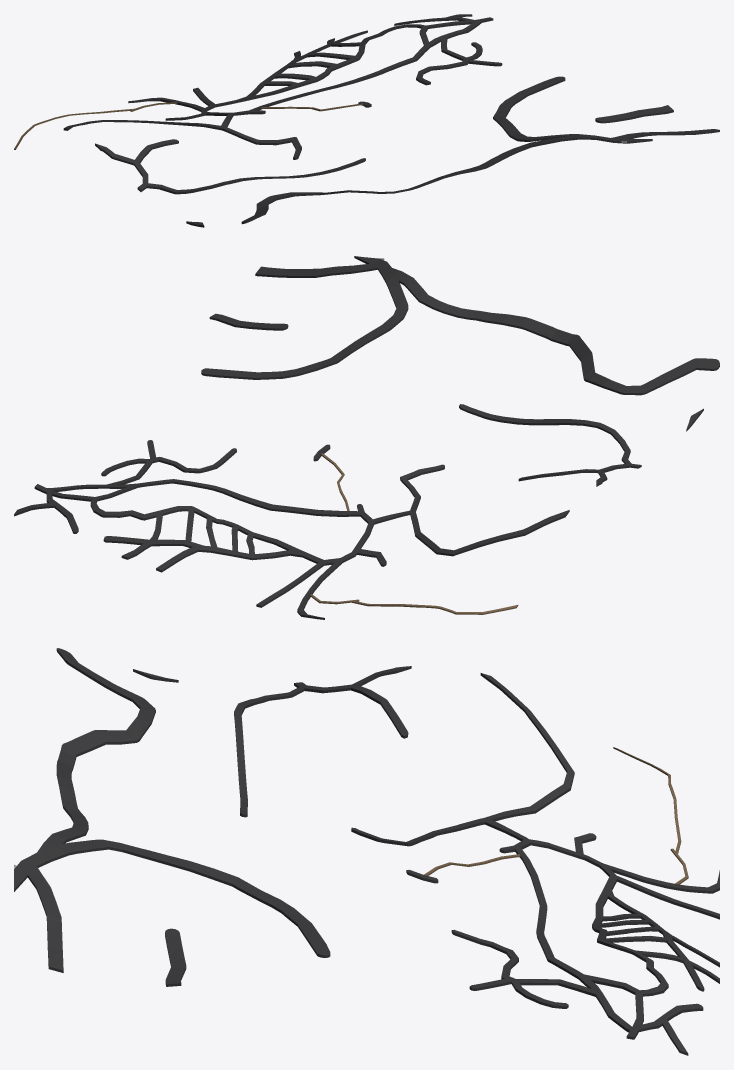
File: 17-109439-59468.e80fabb1.glb
The picture shows the model from 3 angles, top to bottom: view 1: azimuth 30°, elevation 25°; view 2: azimuth 150°, elevation 25°; view 3: azimuth 270°, elevation 25°; orthographic projection. The views are drawn at different scales.
Size of the model in its own units: 293 by 68.4 by 292.
